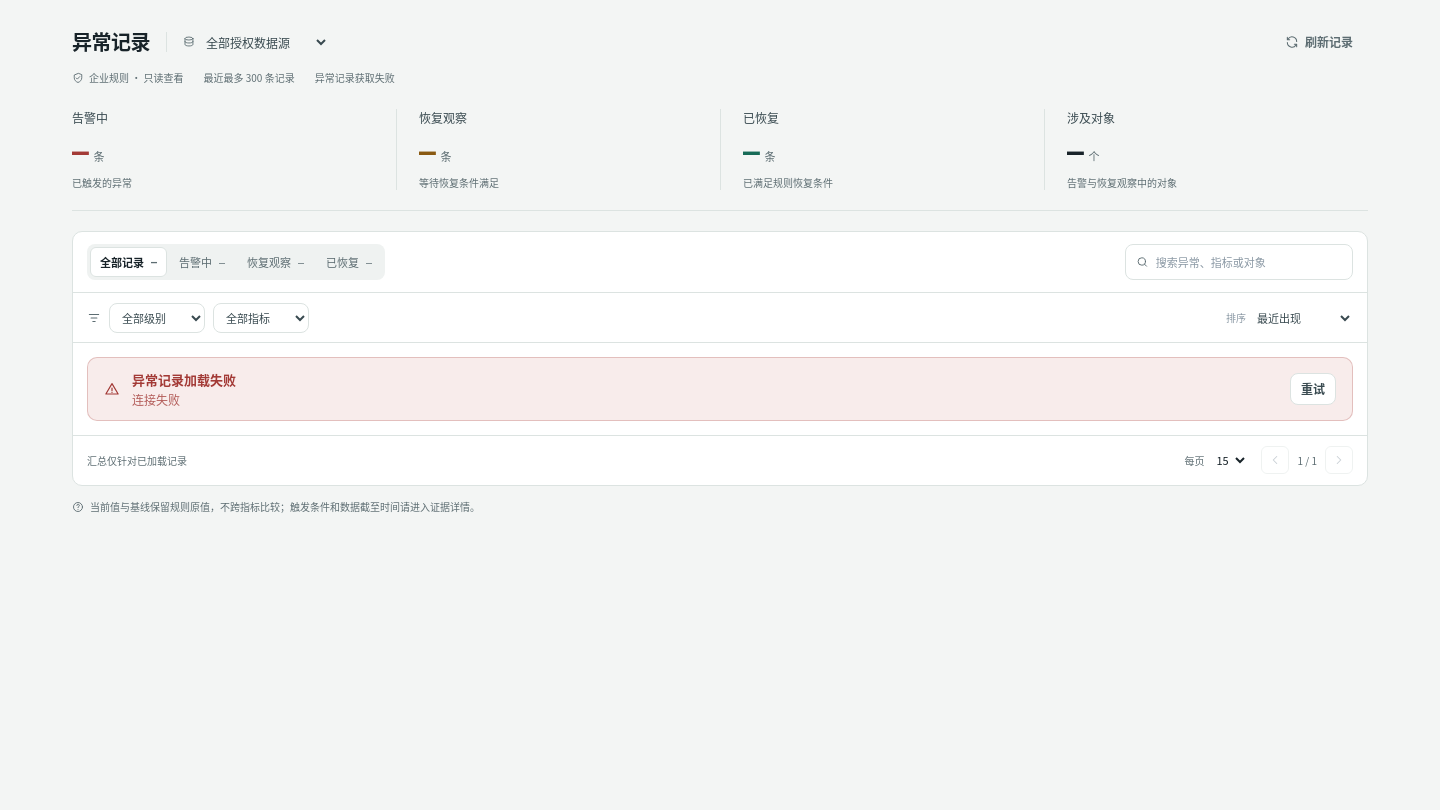
Test: AlertsPage › retries a failed load and ignores an older source response
Expected: the text "异常记录加载失败" is shown, [132, 370, 236, 389]
Click the button "重试": point(1313, 389) [1290, 373, 1336, 405]
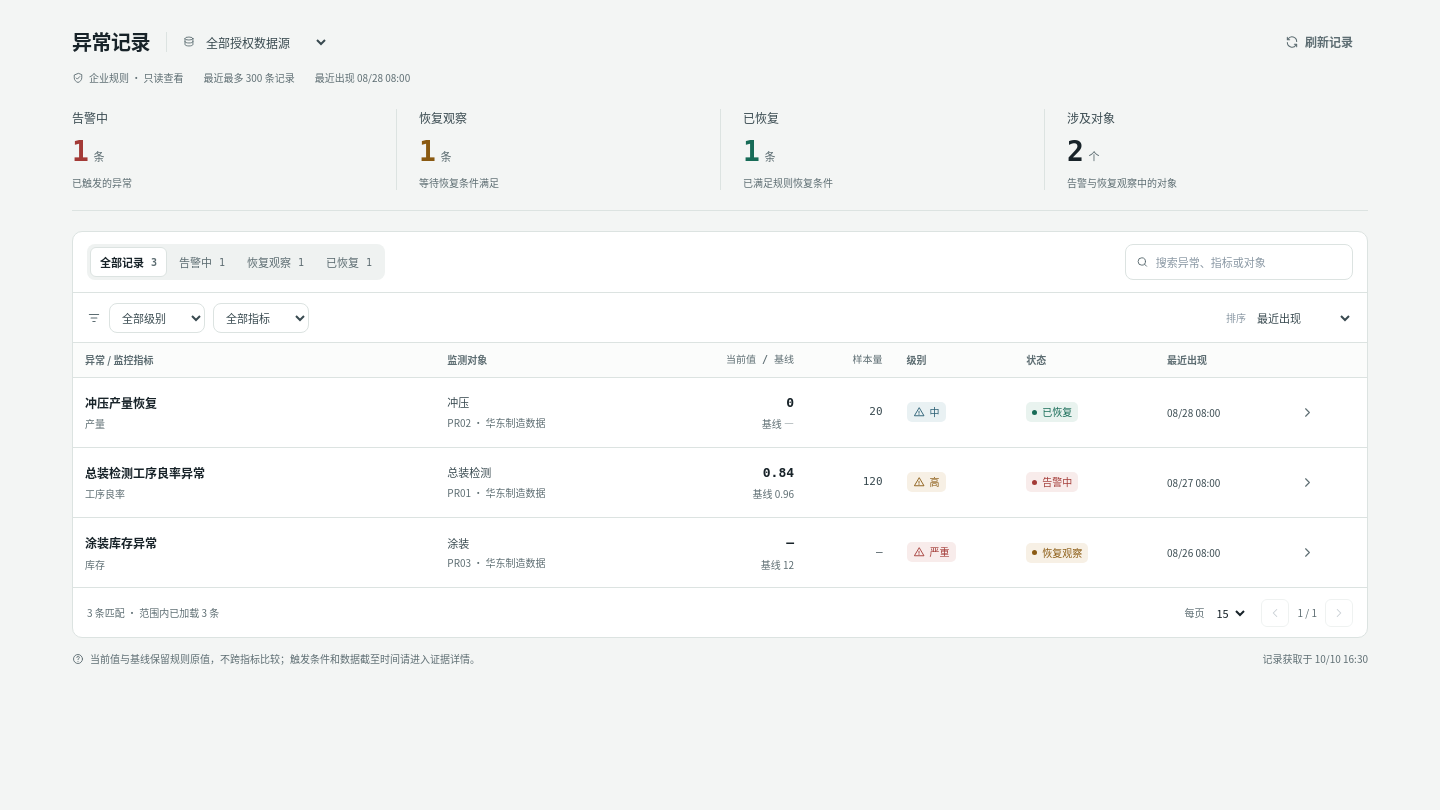
Expected: the table named "异常记录" is shown, [73, 343, 1367, 587]
Select "华东制造数据" in the dropdown named "监测数据源": point(265, 42) [202, 26, 329, 58]
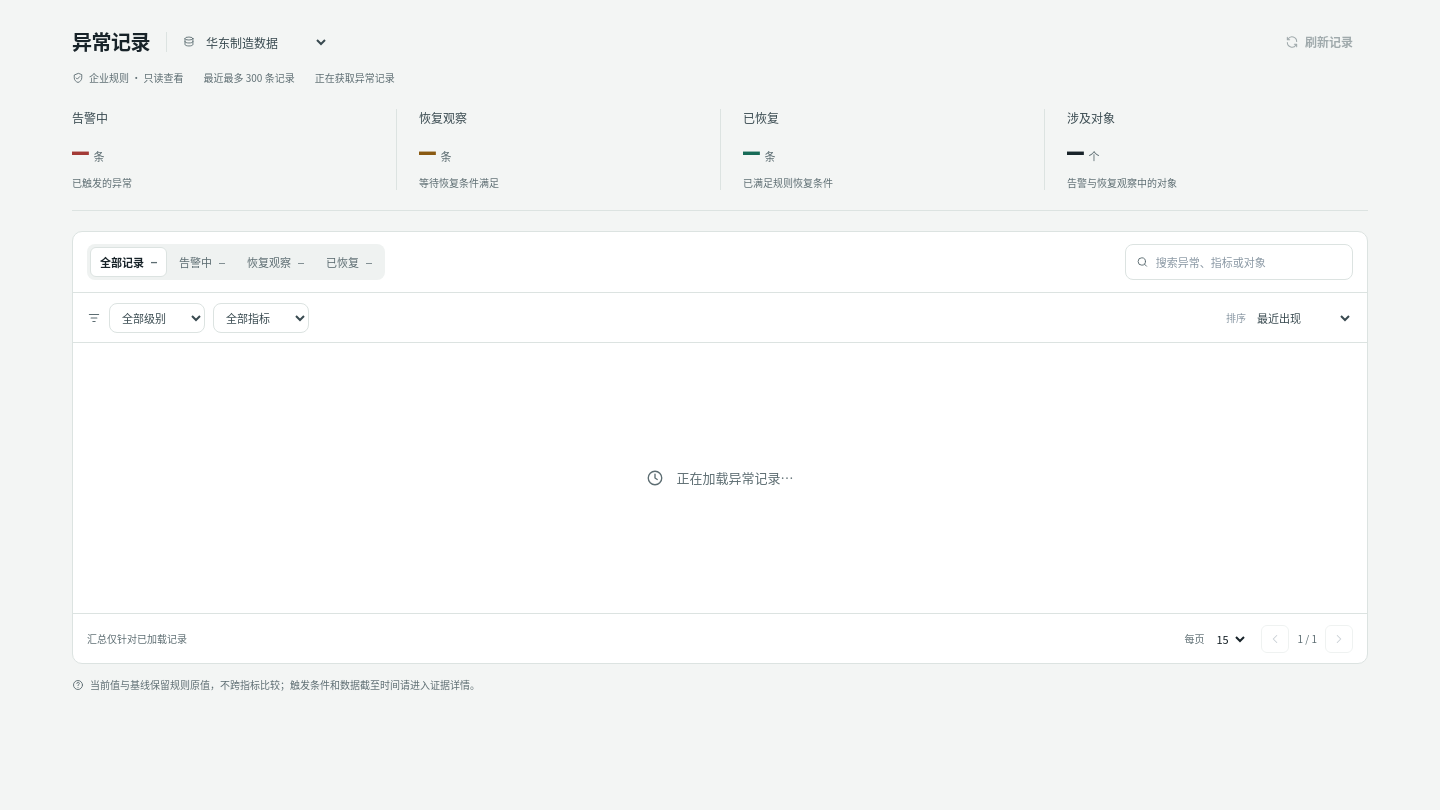
Select "华南制造数据" in the dropdown named "监测数据源": point(265, 42) [202, 26, 329, 58]
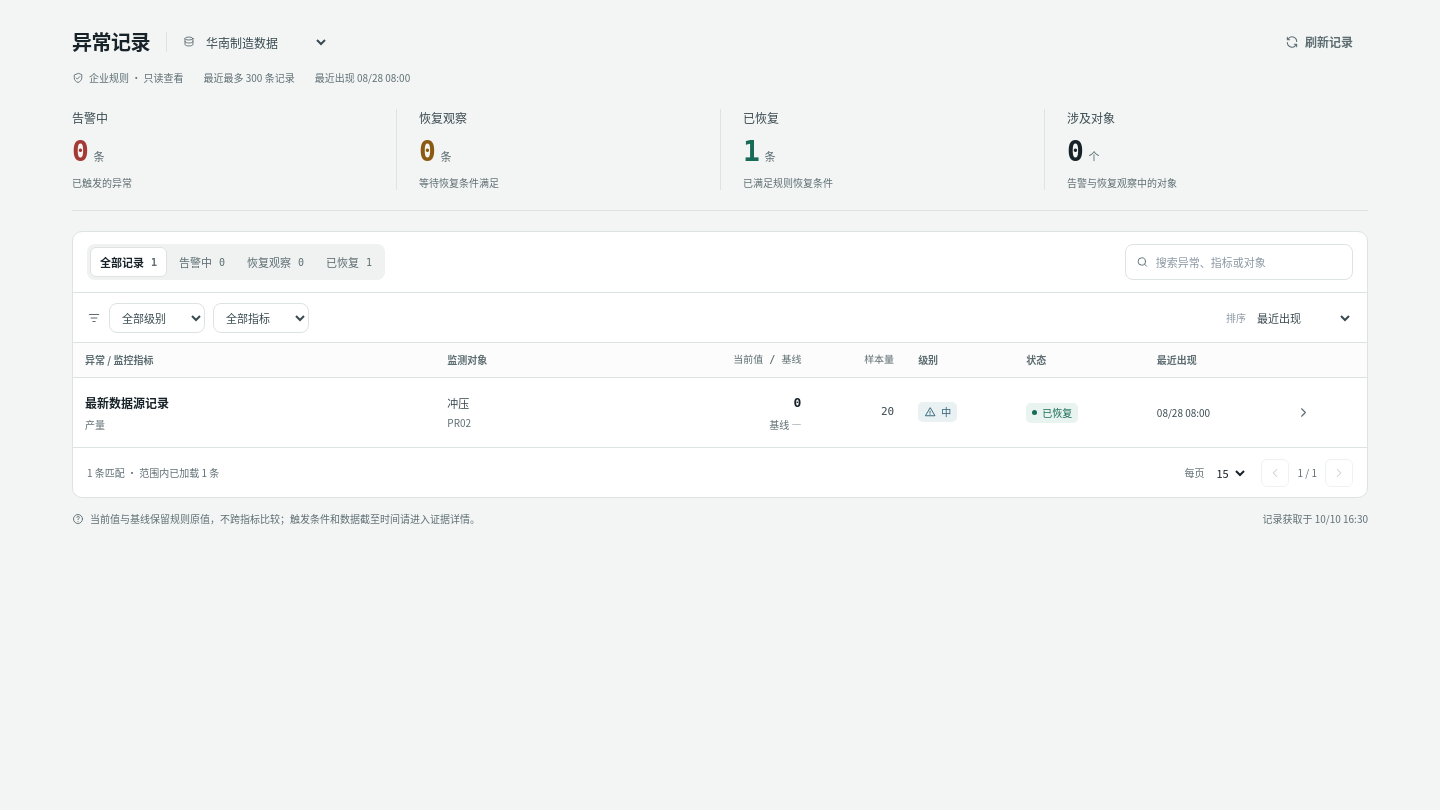
Expected: the link "总装检测工序良率异常" is not shown
Expected: the link "最新数据源记录" is shown, [85, 394, 169, 411]
